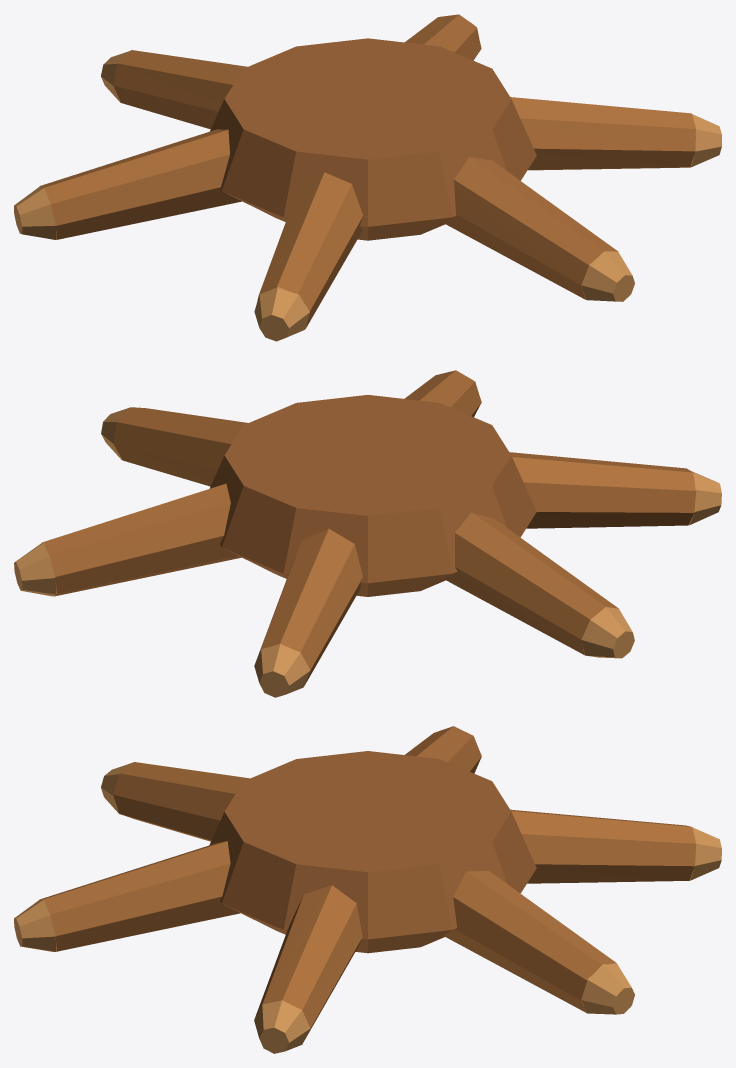
File: FibrousRoot.obj
3 renders of one model, top to bottom at view 1: azimuth 30°, elevation 25°; view 2: azimuth 150°, elevation 25°; view 3: azimuth 270°, elevation 25°, orthographic.
Visible parts, largest first — view 1: FibrousRoot_FibrousRoots, FibrousRoot_FibrousCrown, FibrousRoot_FibrousTips; view 2: FibrousRoot_FibrousRoots, FibrousRoot_FibrousCrown, FibrousRoot_FibrousTips; view 3: FibrousRoot_FibrousRoots, FibrousRoot_FibrousCrown, FibrousRoot_FibrousTips.
Part boxes in pixels (left/top/right/bottom): FibrousRoot_FibrousRoots: left=40, top=14, right=696, bottom=328; FibrousRoot_FibrousCrown: left=210, top=38, right=536, bottom=240; FibrousRoot_FibrousTips: left=14, top=20, right=721, bottom=341; FibrousRoot_FibrousRoots: left=41, top=370, right=696, bottom=686; FibrousRoot_FibrousCrown: left=210, top=395, right=536, bottom=596; FibrousRoot_FibrousTips: left=14, top=378, right=721, bottom=697; FibrousRoot_FibrousRoots: left=41, top=726, right=696, bottom=1039; FibrousRoot_FibrousCrown: left=209, top=751, right=536, bottom=953; FibrousRoot_FibrousTips: left=14, top=762, right=721, bottom=1053.
Bounding box in the file's own units: 3.7 × 0.6 × 3.7.
